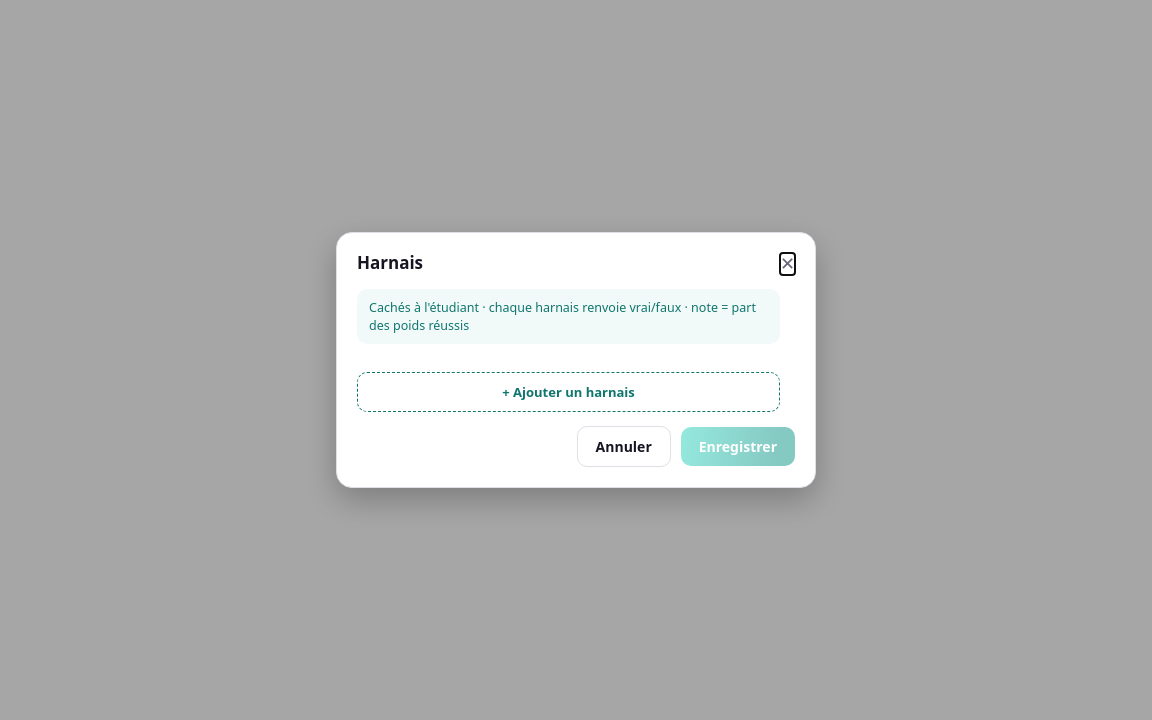
Scenario: HarnessBody › « Ajouter » insère une carte avec le squelette par défaut et poids 1
Click the button "+ Ajouter un harnais" at (568, 392), box [357, 372, 780, 412]
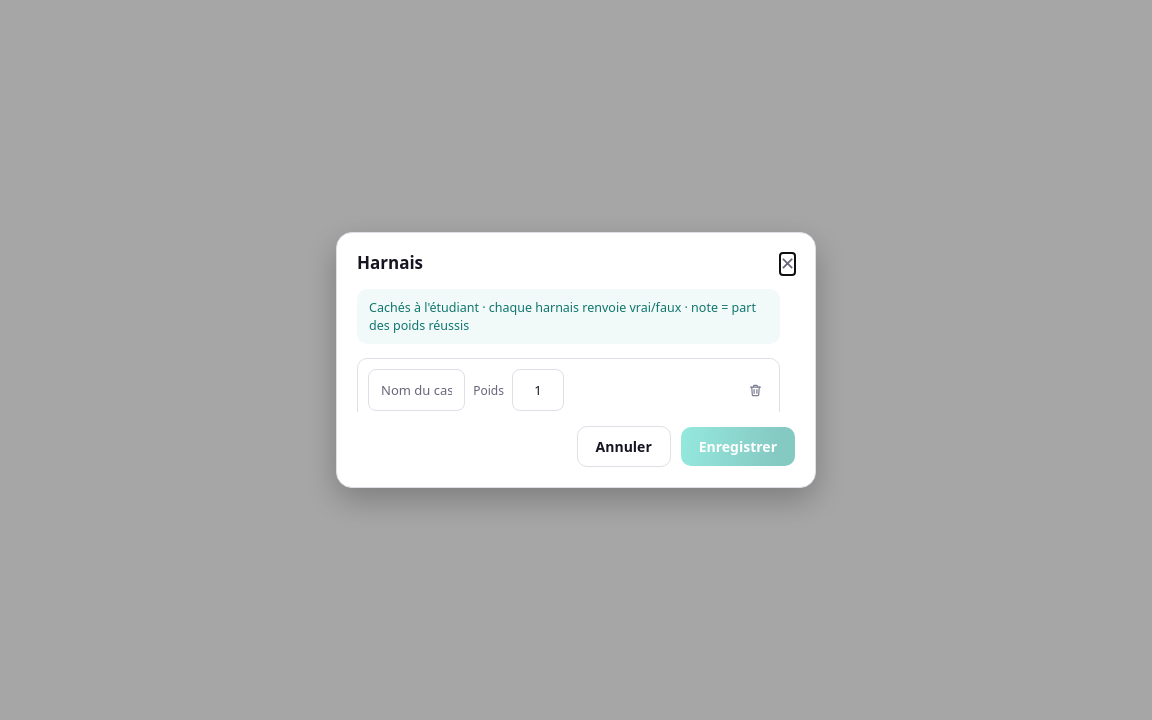
Check: the number of fields with placeholder "Nom du cas (ex. Cas nominal)" is 1, box [368, 369, 465, 411]
Check: the field with placeholder "Nom du cas (ex. Cas nominal)" is empty, box [368, 369, 465, 411]
Check: the number field labelled "Poids" holds "1", box [512, 369, 564, 411]
